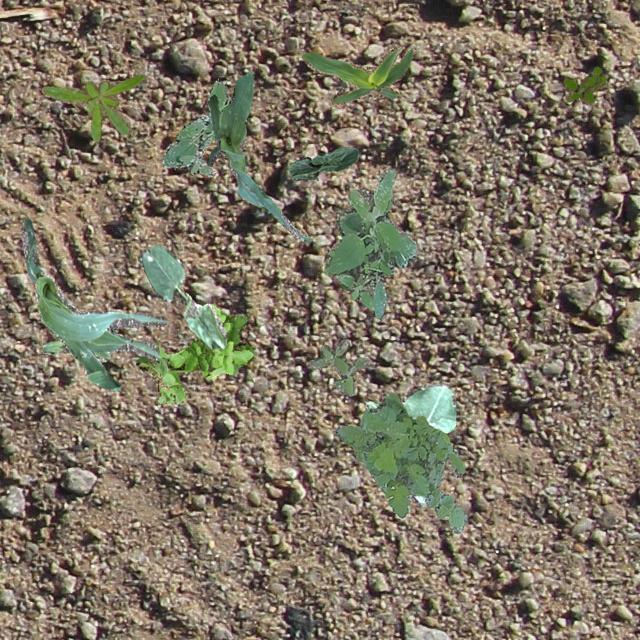crop: (21, 218, 168, 390), (206, 70, 310, 242), (362, 382, 456, 506), (137, 243, 226, 349), (300, 46, 414, 104), (288, 146, 358, 180)
weed: (334, 392, 466, 532), (324, 166, 416, 316), (134, 303, 252, 403), (160, 80, 244, 176), (41, 74, 146, 140), (308, 338, 370, 394), (562, 65, 606, 104), (41, 338, 108, 361)
